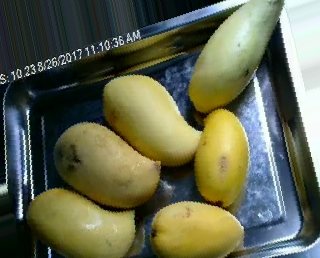Mango: (187, 0, 284, 112), (52, 122, 162, 205), (102, 75, 198, 163), (26, 188, 136, 258), (150, 201, 242, 258), (195, 111, 249, 204)
